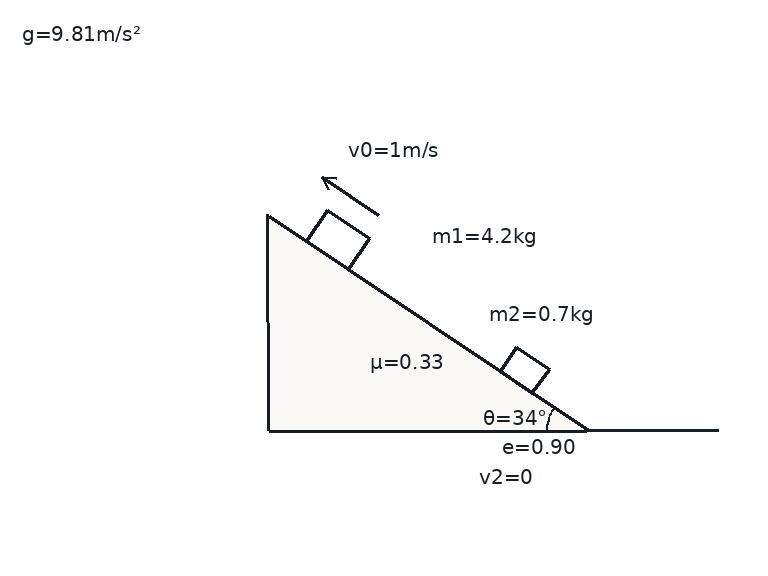block: (304, 207, 371, 271), (497, 345, 550, 395)
ramp: (266, 213, 589, 432)
